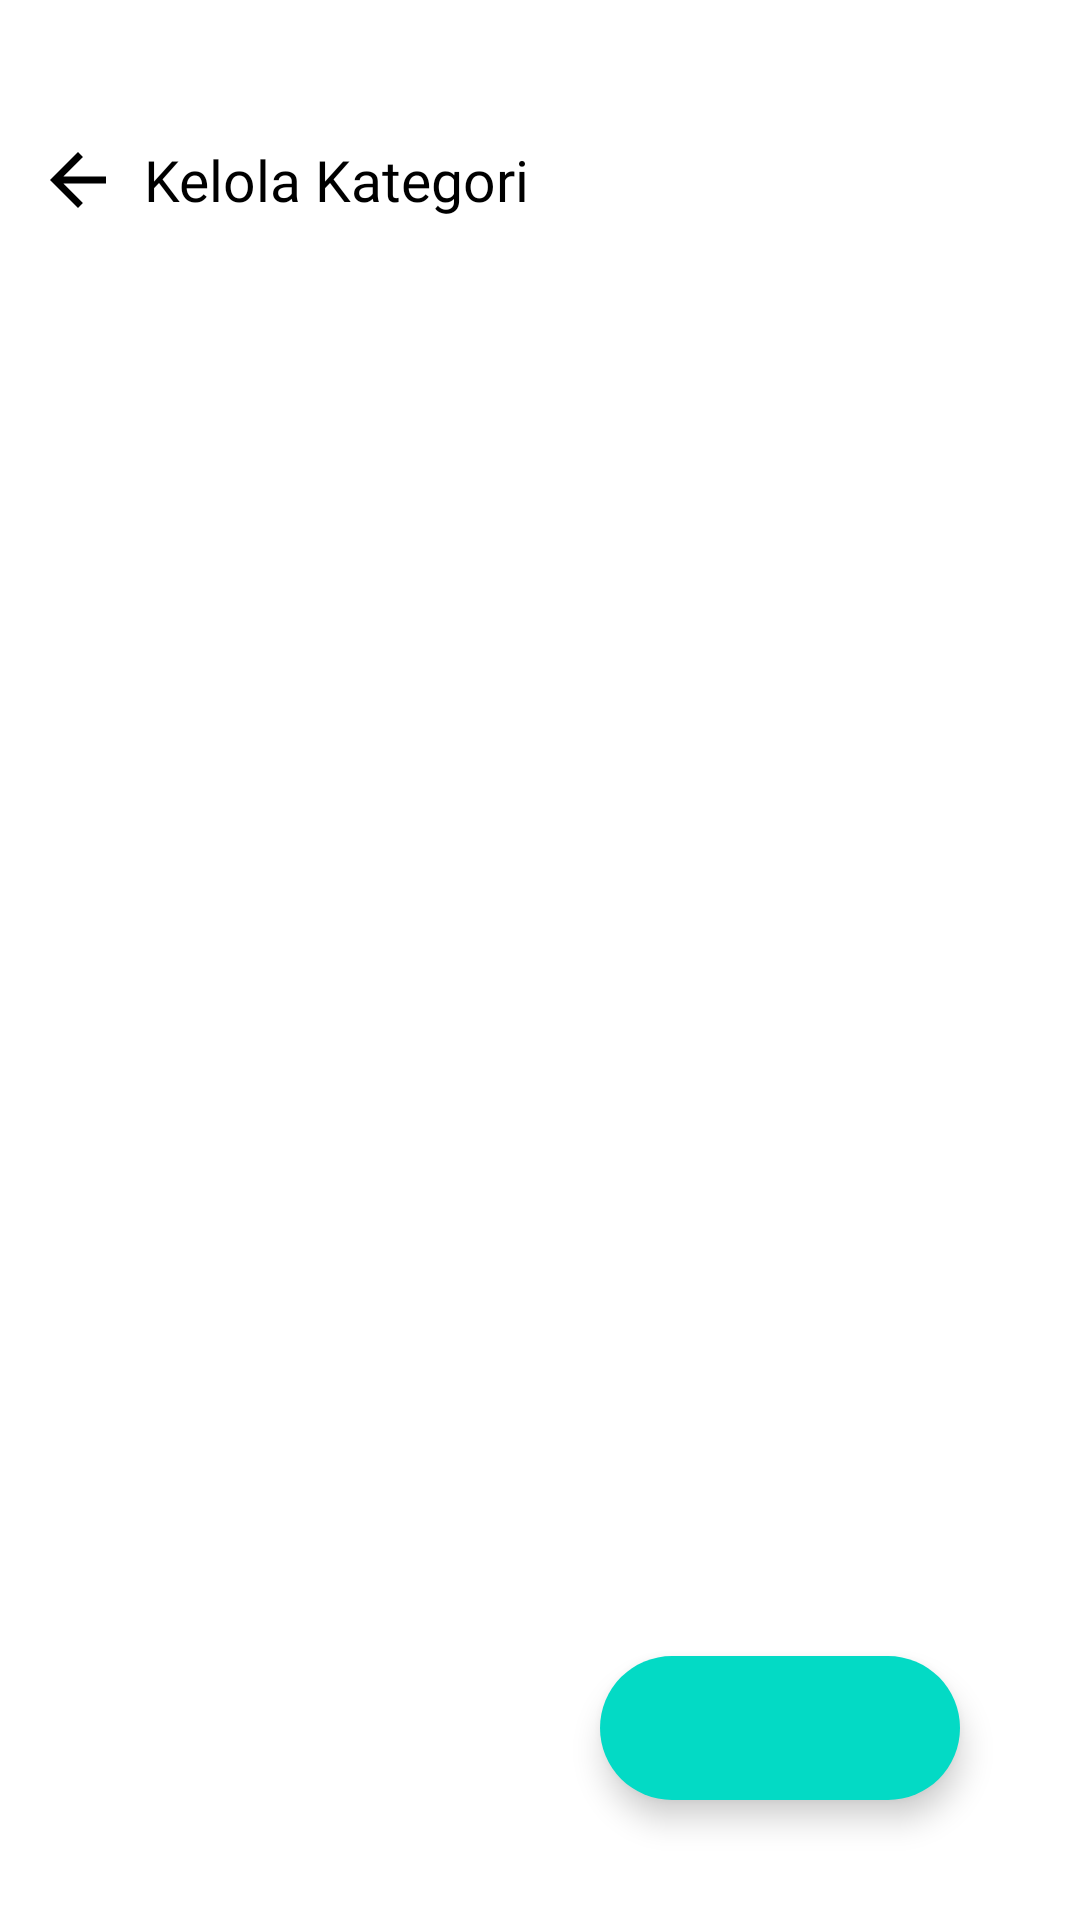

Where to tap for icons on this 1080*1920 app screen, as point (x, y):
arrow back: point (78, 180)
